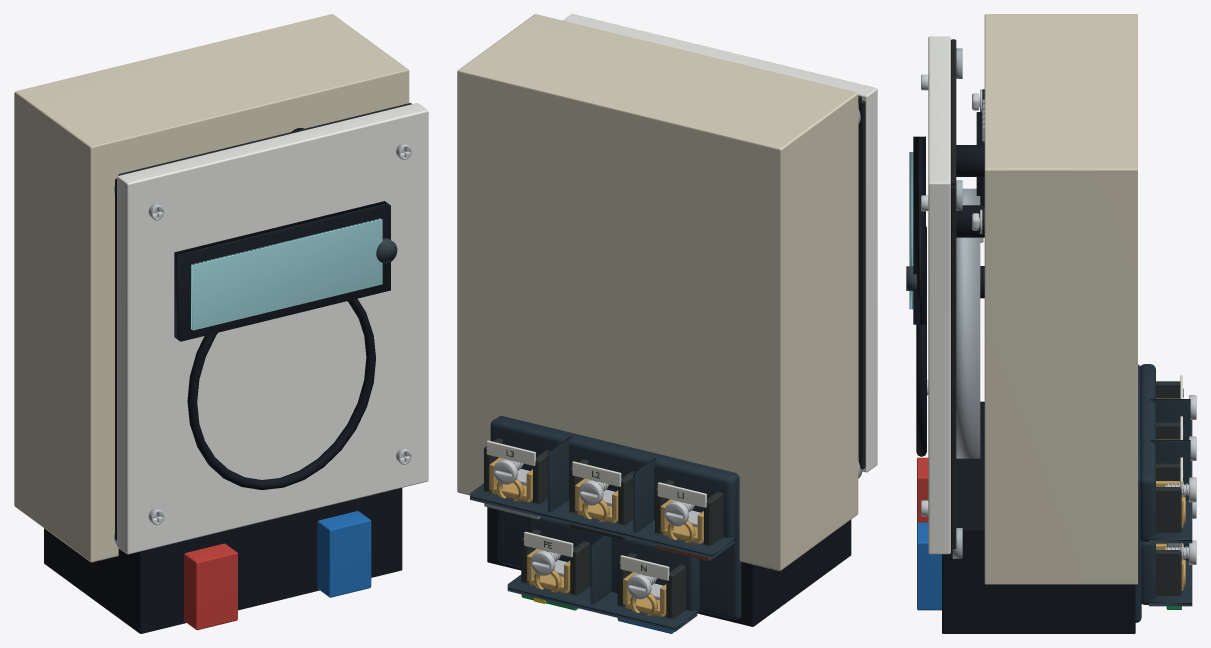
File: source3_default.glb
The picture shows the model from 3 angles, left to right: view 1: azimuth 30°, elevation 25°; view 2: azimuth 150°, elevation 25°; view 3: azimuth 270°, elevation 25°; orthographic projection.
Parts seen in each view (by area): view 1: part:cover, part:body, part:display, part:body.003, detail:enclosure-gasket-and-fixings · Detail rubber gasket, detail:enclosure-gasket-and-fixings · Detail zinc plated fix; view 2: part:body, part:terminals · Original a463fd81, part:cover, detail:enclosure-gasket-and-fixings · Detail rubber gasket, detail:terminal-clamp:N · Detail moulded engineering polymer, detail:terminal-clamp:L1 · Detail moulded engineering polyme, detail:terminal-clamp:PE · Detail moulded engineering polyme, detail:terminal-clamp:L2 · Detail moulded engineering polyme, detail:terminal-clamp:L3 · Detail moulded engineering polyme, detail:terminal-clamp:L3 · Detail machined brass, detail:terminal-clamp:L1 · Detail machined brass, detail:terminal-clamp:PE · Detail machined brass (+12 smaller); view 3: part:body, part:cover, part:terminals · Original a463fd81, part:body.001, detail:enclosure-gasket-and-fixings · Detail rubber gasket, part:display, part:body.003, part:body.002 · Original 3ff2d46d, detail:terminal-clamp:L3 · Detail moulded engineering polyme, detail:terminal-clamp:PE · Detail moulded engineering polyme, part:mounting · Original 2a8198d3, detail:terminal-clamp:L1 · Detail moulded engineering polyme (+2 smaller).
Part boxes in pixels (x1=…): part:cover: x1=117, y1=103, x2=428, y2=554; part:body: x1=14, y1=14, x2=409, y2=633; part:display: x1=174, y1=201, x2=390, y2=341; part:body.003: x1=184, y1=511, x2=371, y2=630; detail:enclosure-gasket-and-fixings · Detail rubber gasket: x1=115, y1=103, x2=411, y2=540; detail:enclosure-gasket-and-fixings · Detail zinc plated fix: x1=148, y1=143, x2=411, y2=525; part:body: x1=457, y1=14, x2=858, y2=626; part:terminals · Original a463fd81: x1=470, y1=416, x2=741, y2=631; part:cover: x1=563, y1=14, x2=877, y2=472; detail:enclosure-gasket-and-fixings · Detail rubber gasket: x1=858, y1=96, x2=865, y2=469; detail:terminal-clamp:N · Detail moulded engineering polymer: x1=617, y1=553, x2=685, y2=619; detail:terminal-clamp:L1 · Detail moulded engineering polyme: x1=655, y1=480, x2=723, y2=546; detail:terminal-clamp:PE · Detail moulded engineering polyme: x1=521, y1=529, x2=589, y2=595; detail:terminal-clamp:L2 · Detail moulded engineering polyme: x1=569, y1=459, x2=634, y2=540; detail:terminal-clamp:L3 · Detail moulded engineering polyme: x1=484, y1=438, x2=548, y2=504; detail:terminal-clamp:L3 · Detail machined brass: x1=489, y1=457, x2=532, y2=502; detail:terminal-clamp:L1 · Detail machined brass: x1=660, y1=499, x2=703, y2=544; detail:terminal-clamp:PE · Detail machined brass: x1=527, y1=548, x2=570, y2=593; part:body: x1=942, y1=14, x2=1137, y2=633; part:cover: x1=916, y1=36, x2=950, y2=554; part:terminals · Original a463fd81: x1=1135, y1=364, x2=1192, y2=622; part:body.001: x1=956, y1=188, x2=980, y2=458; detail:enclosure-gasket-and-fixings · Detail rubber gasket: x1=951, y1=39, x2=956, y2=551; part:display: x1=909, y1=136, x2=925, y2=324; part:body.003: x1=917, y1=457, x2=941, y2=610; part:body.002 · Original 3ff2d46d: x1=956, y1=112, x2=984, y2=298; detail:terminal-clamp:L3 · Detail moulded engineering polyme: x1=1156, y1=463, x2=1182, y2=532; detail:terminal-clamp:PE · Detail moulded engineering polyme: x1=1156, y1=543, x2=1182, y2=595; part:mounting · Original 2a8198d3: x1=952, y1=48, x2=962, y2=558; detail:terminal-clamp:L1 · Detail moulded engineering polyme: x1=1156, y1=381, x2=1180, y2=398.
Size of the model in its own units: 0.77 by 1.11 by 0.6053.
